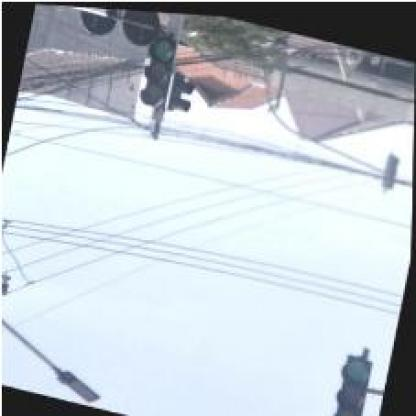green: (330, 347, 374, 415), (137, 30, 175, 107)
